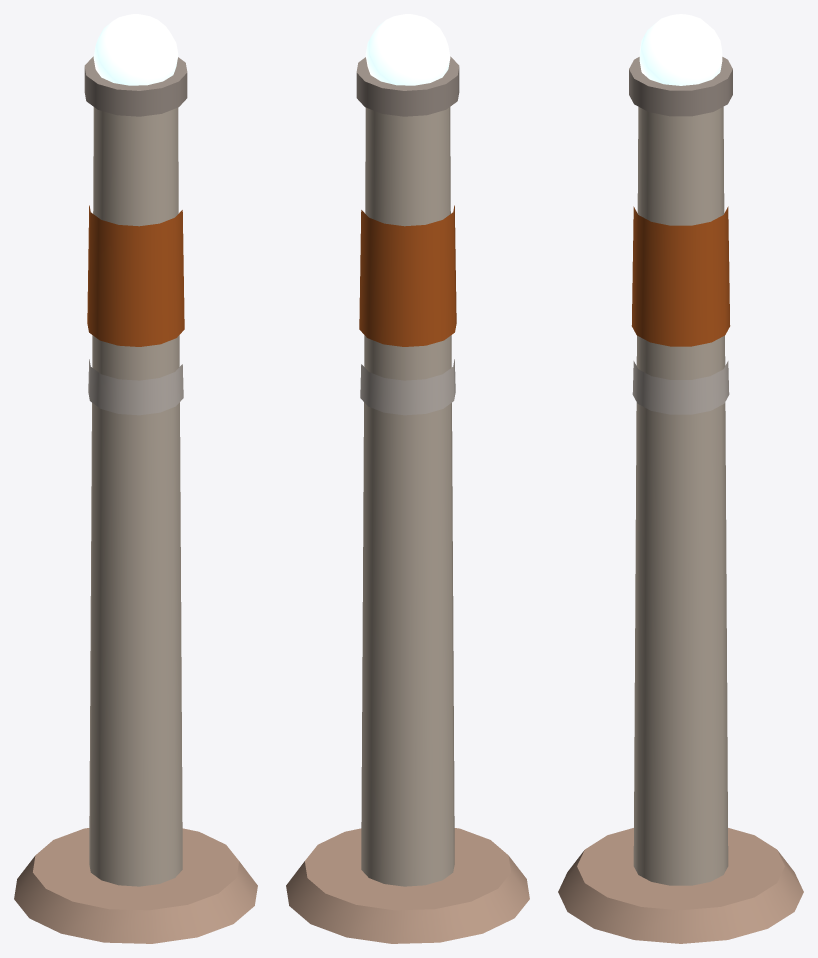
Rendered from D08_path_marker_post.glb.
The picture shows the model from 3 angles, left to right: view 1: azimuth 30°, elevation 25°; view 2: azimuth 150°, elevation 25°; view 3: azimuth 270°, elevation 25°; orthographic projection.
Visible parts, largest first — view 1: post, base_plate, reflective_band, marker_light, lamp_collar, reflector_ring; view 2: post, base_plate, reflective_band, marker_light, lamp_collar, reflector_ring; view 3: post, base_plate, reflective_band, marker_light, lamp_collar, reflector_ring.
Boxes of the visible parts, x1=… form: post: x1=89, y1=107, x2=182, y2=886; base_plate: x1=14, y1=828, x2=257, y2=943; reflective_band: x1=87, y1=205, x2=184, y2=346; marker_light: x1=93, y1=14, x2=178, y2=85; lamp_collar: x1=84, y1=56, x2=187, y2=116; reflector_ring: x1=88, y1=359, x2=183, y2=415; post: x1=361, y1=107, x2=454, y2=886; base_plate: x1=286, y1=828, x2=529, y2=943; reflective_band: x1=359, y1=205, x2=456, y2=346; marker_light: x1=365, y1=14, x2=450, y2=85; lamp_collar: x1=356, y1=56, x2=459, y2=116; reflector_ring: x1=360, y1=359, x2=455, y2=415; post: x1=633, y1=107, x2=728, y2=885; base_plate: x1=558, y1=828, x2=803, y2=943; reflective_band: x1=631, y1=206, x2=730, y2=346; marker_light: x1=639, y1=14, x2=722, y2=85; lamp_collar: x1=629, y1=57, x2=732, y2=116; reflector_ring: x1=632, y1=361, x2=729, y2=414.
Bounding box in the file's own units: 0.26 × 1.02 × 0.26.
